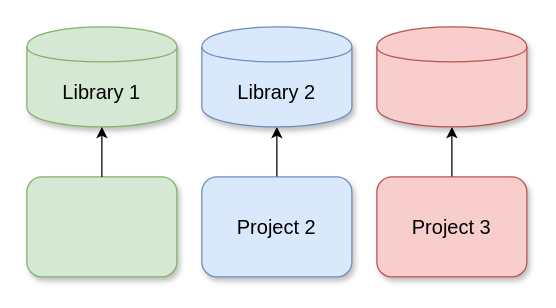
Some shapes in this 556 by 308 pixel diagram are drawn without their labels. The centre of each missing label's shape, as x and y in pixels:
Library 3: [452,78]
Project 1: [102,228]
